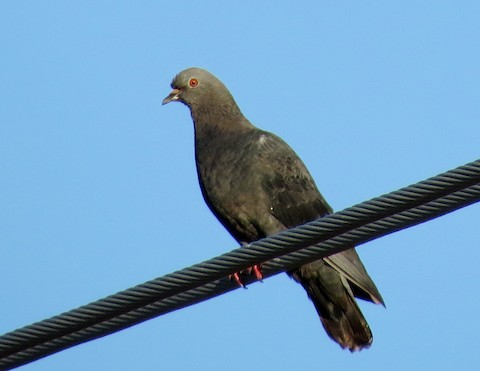pigeon: (160, 65, 391, 357)
